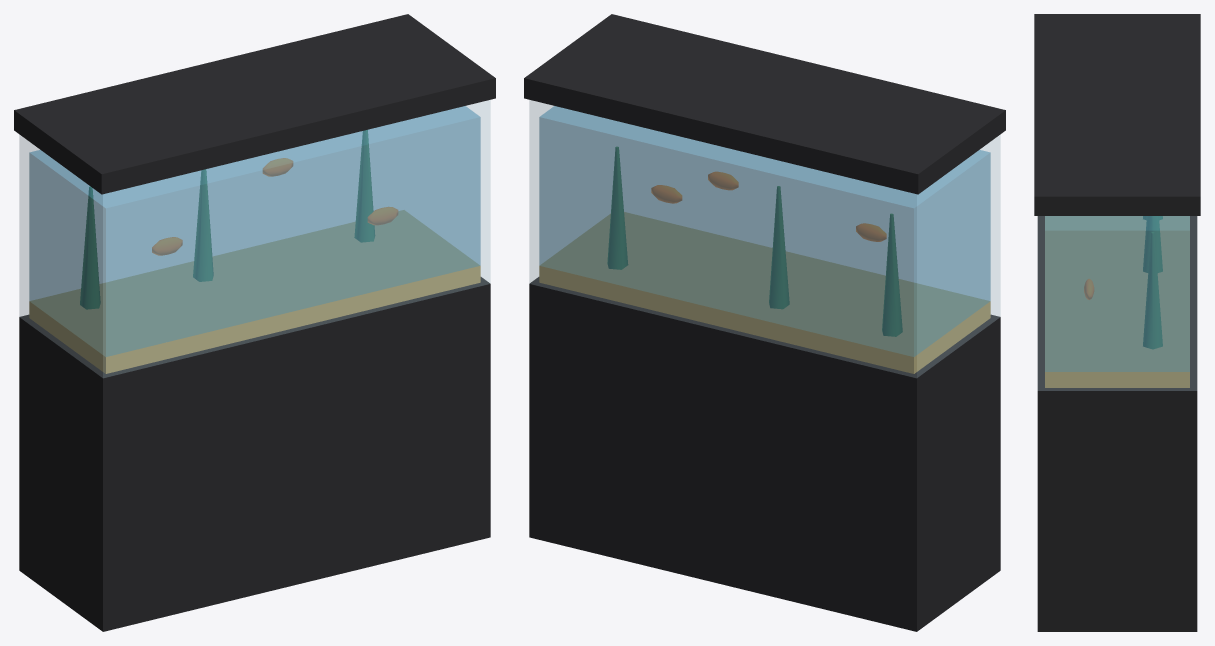
The model's file is aquarium.glb.
3 views of the same model, side by side, from view 1: azimuth 30°, elevation 25°; view 2: azimuth 150°, elevation 25°; view 3: azimuth 270°, elevation 25° (orthographic). The views are drawn at different scales.
Visible parts, largest first — view 1: aquarium; view 2: aquarium; view 3: aquarium.
Part boxes in pixels (<box>): aquarium: <box>14,14,495,631</box>; aquarium: <box>524,14,1005,631</box>; aquarium: <box>1034,14,1200,631</box>.
Bounding box in the file's own units: 1.22 × 1.36 × 0.47.
